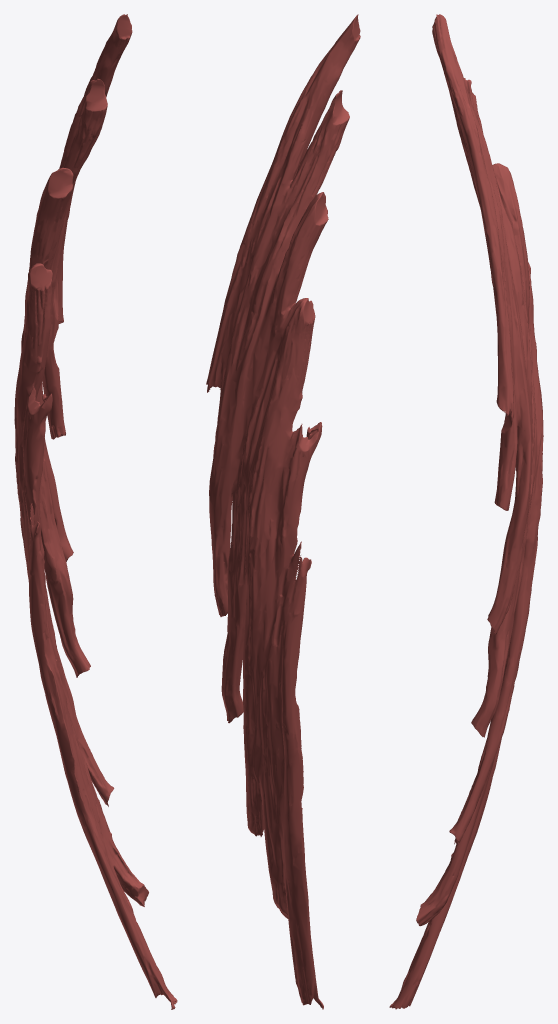
File: FMA22873.glb
3 renders of one model, left to right at view 1: azimuth 90°, elevation 25°; view 2: azimuth 150°, elevation 25°; view 3: azimuth 270°, elevation 25°, orthographic. The views are drawn at different scales.
Parts seen in each view (by area): view 1: FMA22873; view 2: FMA22873; view 3: FMA22873.
Part boxes in pixels (box(x1,y1,x2,y2)): FMA22873: box(14, 14, 177, 1009); FMA22873: box(206, 14, 360, 1009); FMA22873: box(389, 14, 543, 1009).
Bounding box in the file's own units: 0.0328 × 0.2733 × 0.0394.
